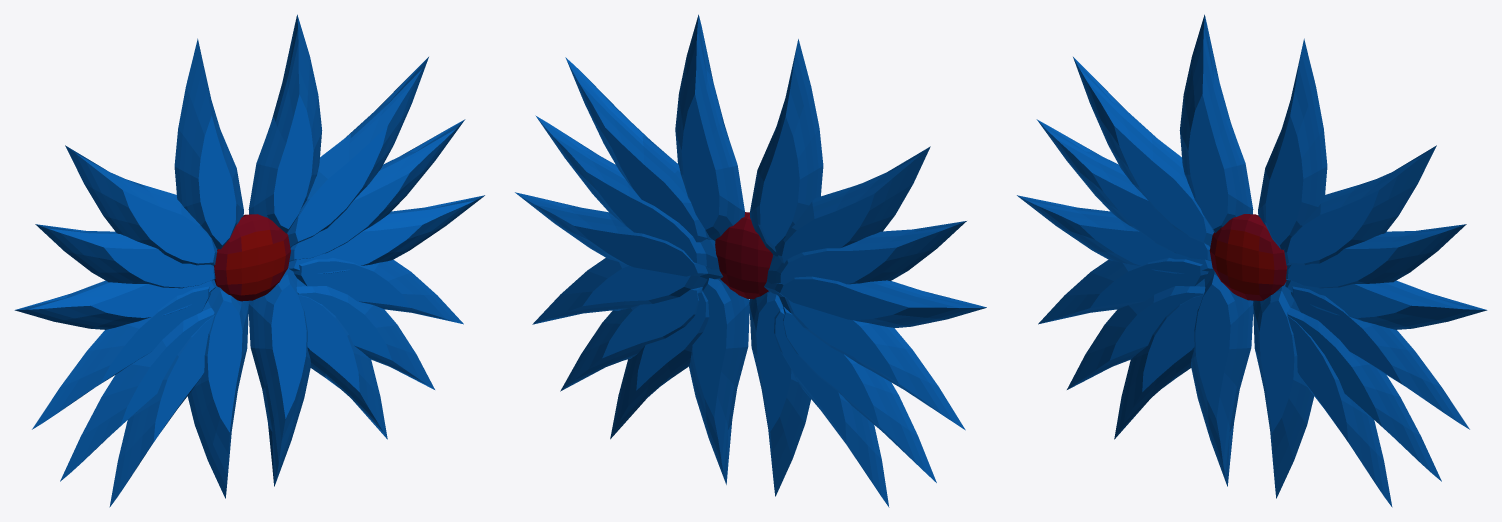
Rendered from rewardFlower.glb.
The picture shows the model from 3 angles, left to right: view 1: azimuth 30°, elevation 25°; view 2: azimuth 150°, elevation 25°; view 3: azimuth 330°, elevation 25°; orthographic projection.
Parts seen in each view (by area): view 1: Flower; view 2: Flower; view 3: Flower.
Boxes of the visible parts, x1,y1,x2,y2 form: Flower: (14,14,484,507); Flower: (515,14,986,507); Flower: (1017,14,1487,507).
Bounding box in the file's own units: 18.75 × 17.68 × 1.5.
